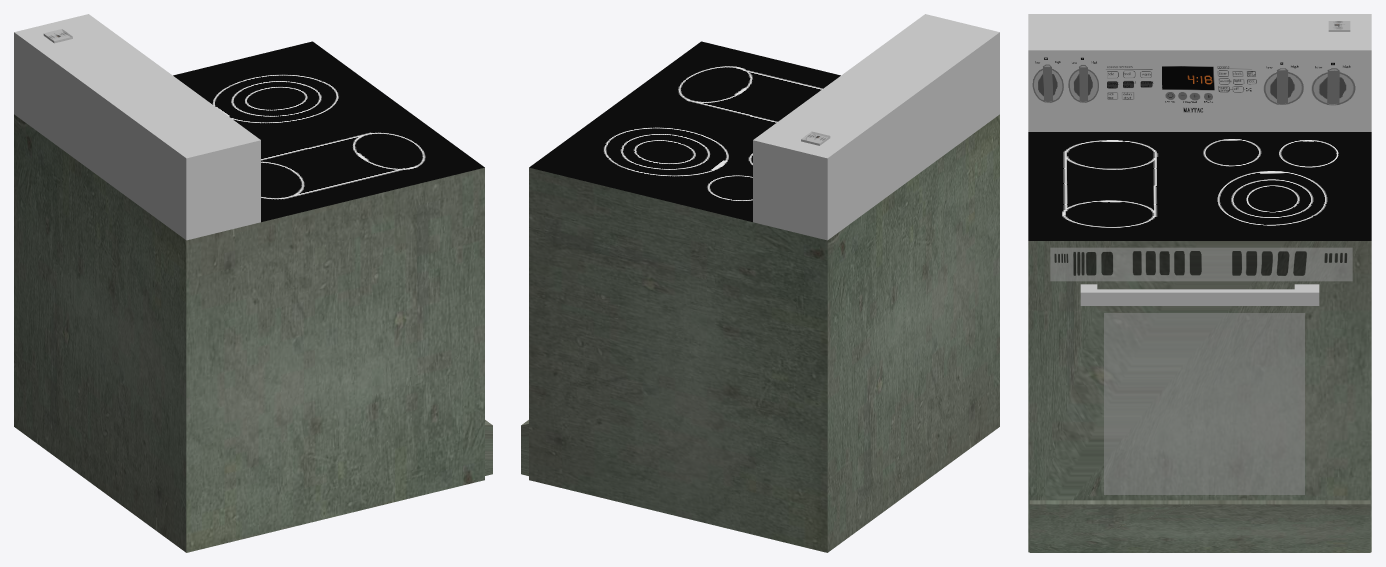
File: Stove.fbx
3 renders of one model, left to right at view 1: azimuth 30°, elevation 25°; view 2: azimuth 150°, elevation 25°; view 3: azimuth 270°, elevation 25°, orthographic.
Visible parts, largest first — view 1: Mesh; view 2: Mesh; view 3: Mesh.
Part boxes in pixels (left/top/right/bottom): Mesh: left=14, top=14, right=492, bottom=552; Mesh: left=521, top=14, right=999, bottom=552; Mesh: left=1028, top=14, right=1371, bottom=552.
Bounding box in the file's own units: 635 × 762 × 600.
